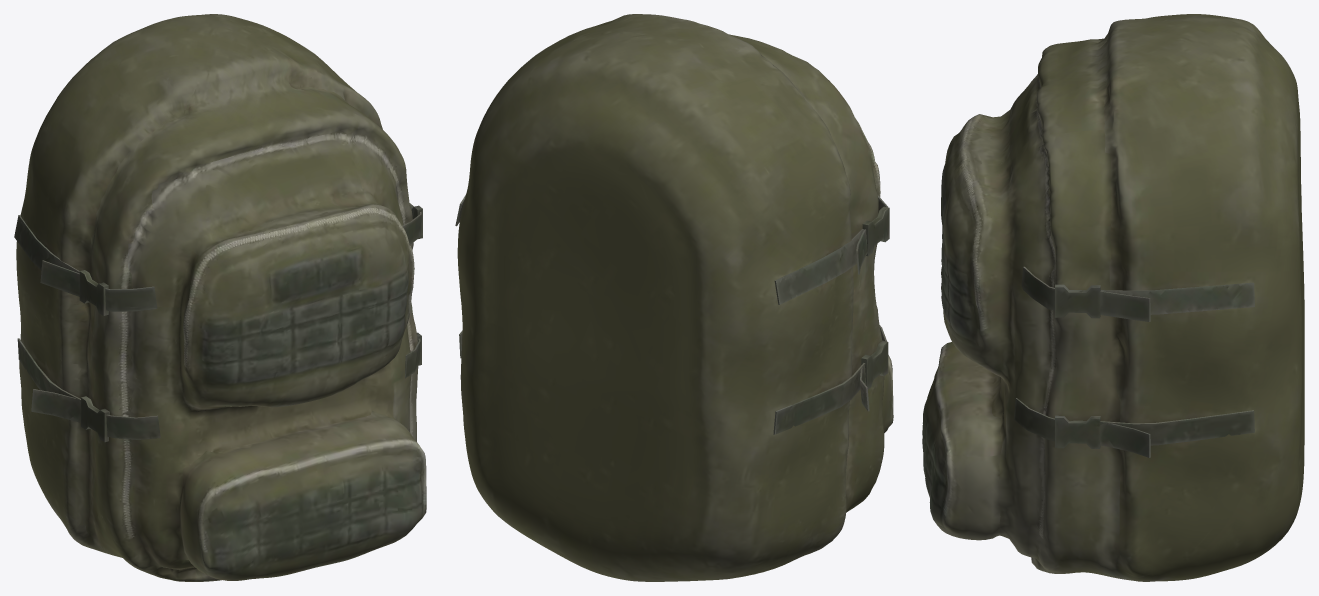
Rendered from mochila_asalto.glb.
3 views of the same model, side by side, from view 1: azimuth 30°, elevation 25°; view 2: azimuth 150°, elevation 25°; view 3: azimuth 270°, elevation 25° (orthographic). The views are drawn at different scales.
Visible parts, largest first — view 1: rigid_cube_newuvs; view 2: rigid_cube_newuvs; view 3: rigid_cube_newuvs.
Boxes of the visible parts, bbox=[...] form: rigid_cube_newuvs: bbox=[14, 14, 426, 581]; rigid_cube_newuvs: bbox=[455, 14, 893, 581]; rigid_cube_newuvs: bbox=[922, 14, 1304, 581].
Bounding box in the file's own units: 0.0269 × 0.0335 × 0.023.
1 material, 1 textured.
